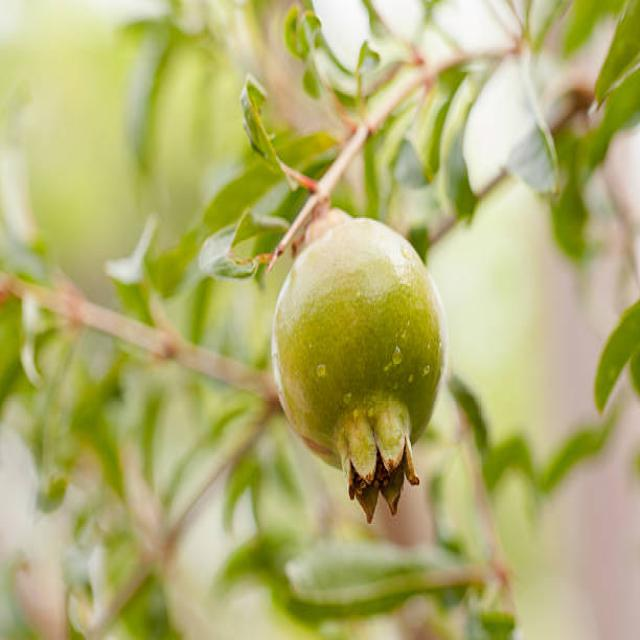Unripe: (273, 213, 445, 524)
